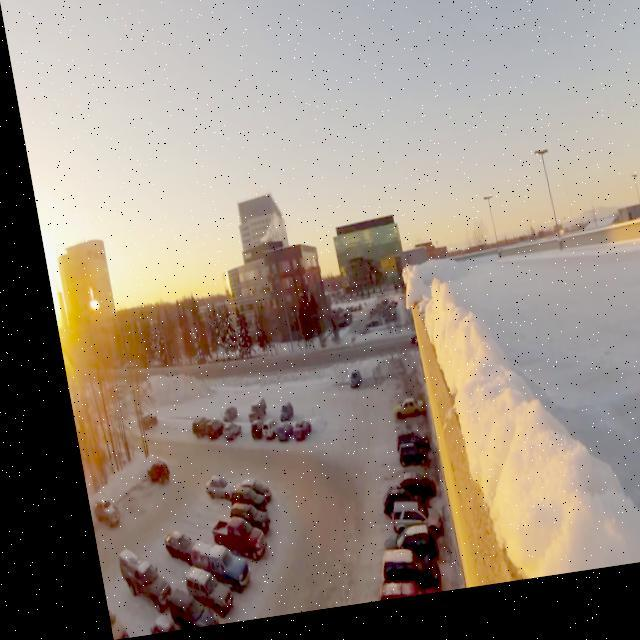Fire: (246, 223, 272, 249)
